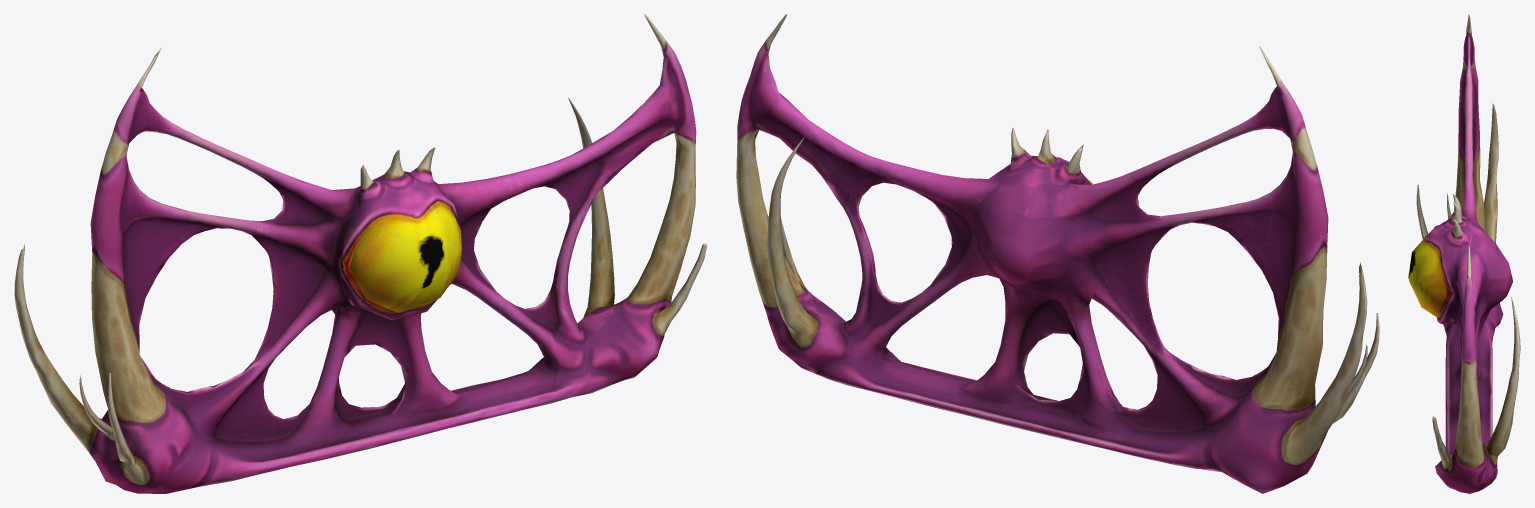
The model's file is parasiteWall.fbx.
The picture shows the model from 3 angles, left to right: view 1: azimuth 30°, elevation 25°; view 2: azimuth 150°, elevation 25°; view 3: azimuth 270°, elevation 25°; orthographic projection. The views are drawn at different scales.
Visible parts, largest first — view 1: parasiteWall_lp; view 2: parasiteWall_lp; view 3: parasiteWall_lp.
Part boxes in pixels (box(x1,y1,x2,y2)): parasiteWall_lp: box(14, 14, 707, 493); parasiteWall_lp: box(736, 14, 1379, 493); parasiteWall_lp: box(1408, 14, 1520, 493).
Size of the model in its own units: 460 by 294 by 93.81.
